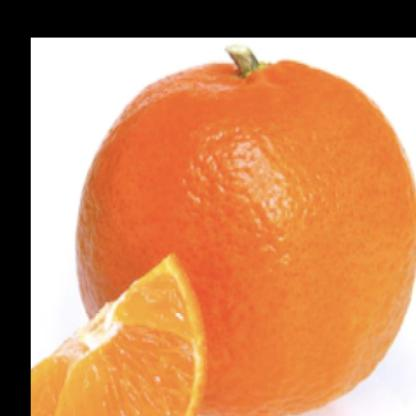fresh: (73, 55, 416, 416)
